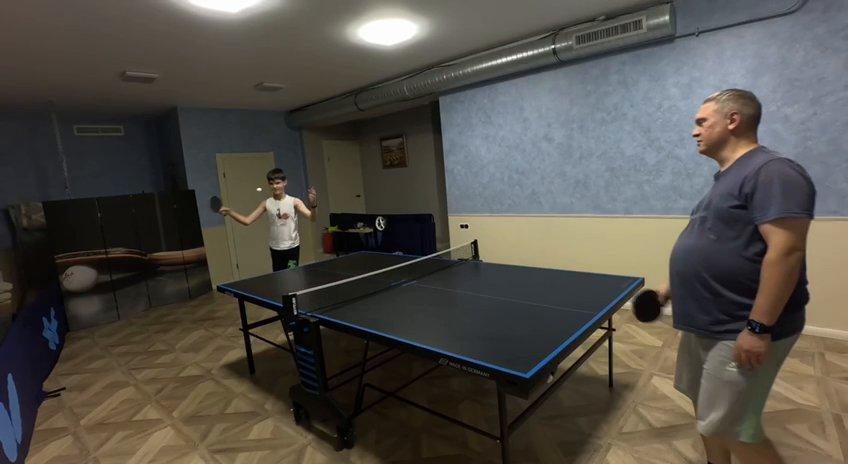Ball: (256, 185, 264, 194)
Net: (283, 239, 479, 315)
Player1: (204, 168, 318, 270)
Player2: (661, 89, 814, 463)
Table: (221, 251, 642, 376)
